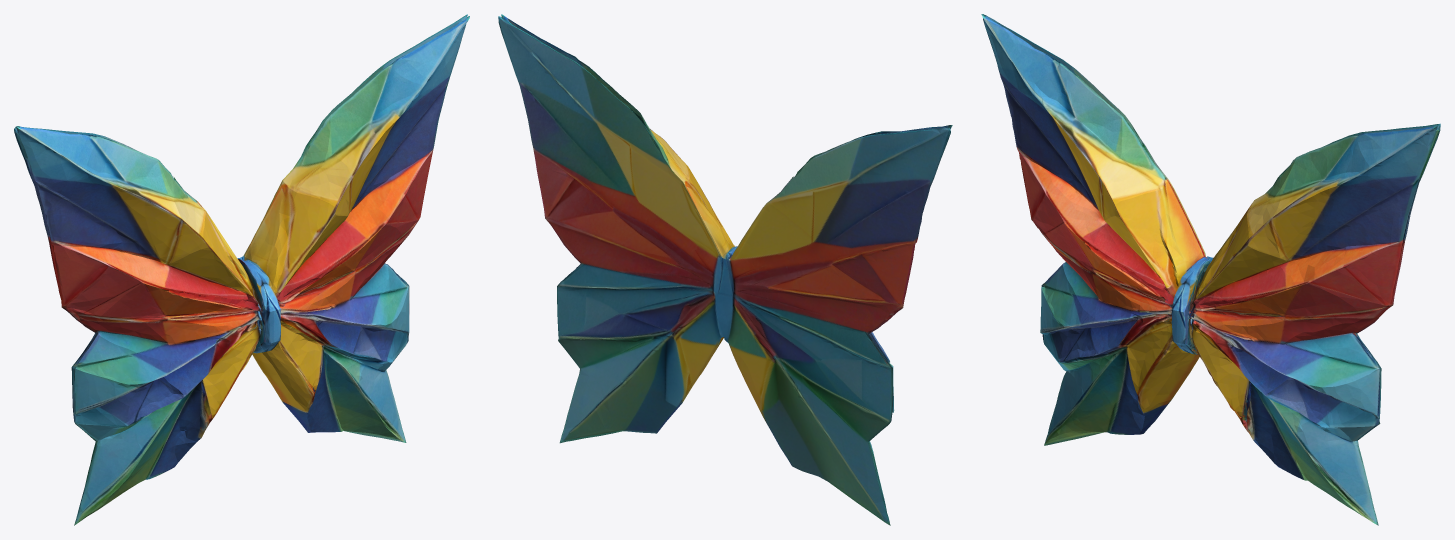
The model's file is Kaleidoscope_Wings_0727084425_texture.fbx.
3 renders of one model, left to right at view 1: azimuth 30°, elevation 25°; view 2: azimuth 150°, elevation 25°; view 3: azimuth 330°, elevation 25°, orthographic.
Visible parts, largest first — view 1: temp; view 2: temp; view 3: temp.
Boxes of the visible parts, <box> form: temp: <box>14,14,469,525</box>; temp: <box>498,14,952,525</box>; temp: <box>981,14,1440,525</box>.
Size of the model in its own units: 200 by 175 by 26.62.
Materials: 1 (1 with a texture image).
